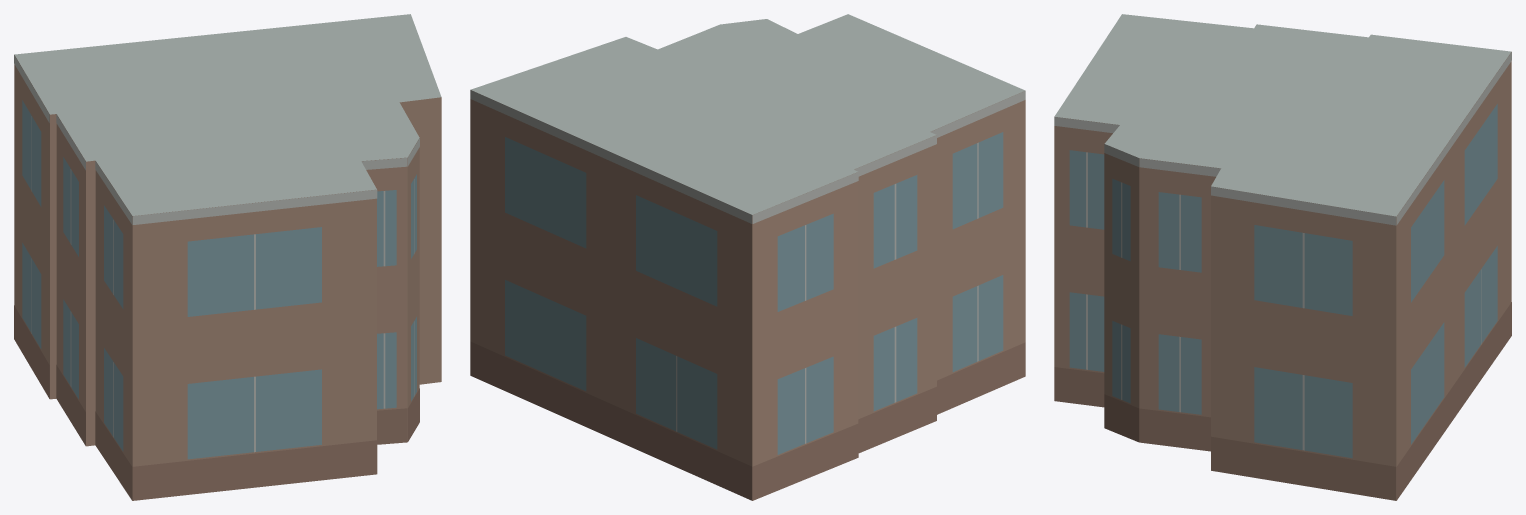
Rendered from survey-upis-32666955.glb.
3 renders of one model, left to right at view 1: azimuth 30°, elevation 25°; view 2: azimuth 150°, elevation 25°; view 3: azimuth 270°, elevation 25°, orthographic.
Visible parts, largest first — view 1: survey-upis-32666955.tmp; view 2: survey-upis-32666955.tmp; view 3: survey-upis-32666955.tmp.
Boxes of the visible parts, left/top/right/bottom form: survey-upis-32666955.tmp: left=14, top=14, right=441, bottom=500; survey-upis-32666955.tmp: left=470, top=14, right=1025, bottom=500; survey-upis-32666955.tmp: left=1054, top=14, right=1511, bottom=500.
Bounding box in the file's own units: 11.62 × 7.6 × 11.09.
